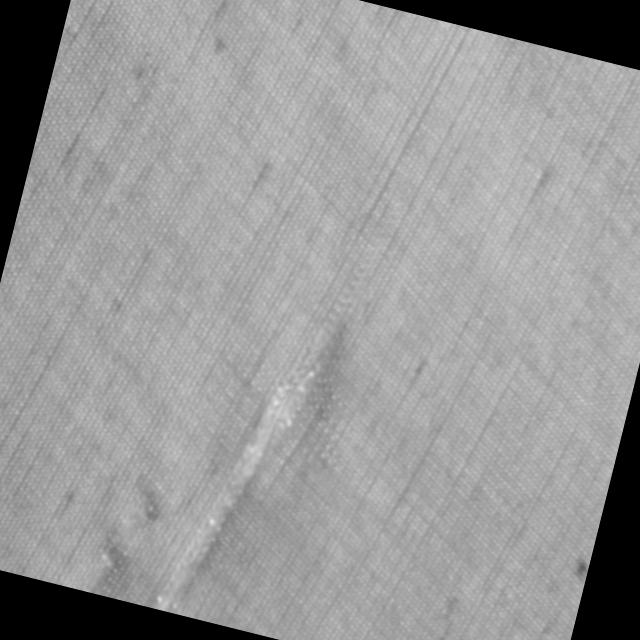thread error: (153, 268, 363, 638)
